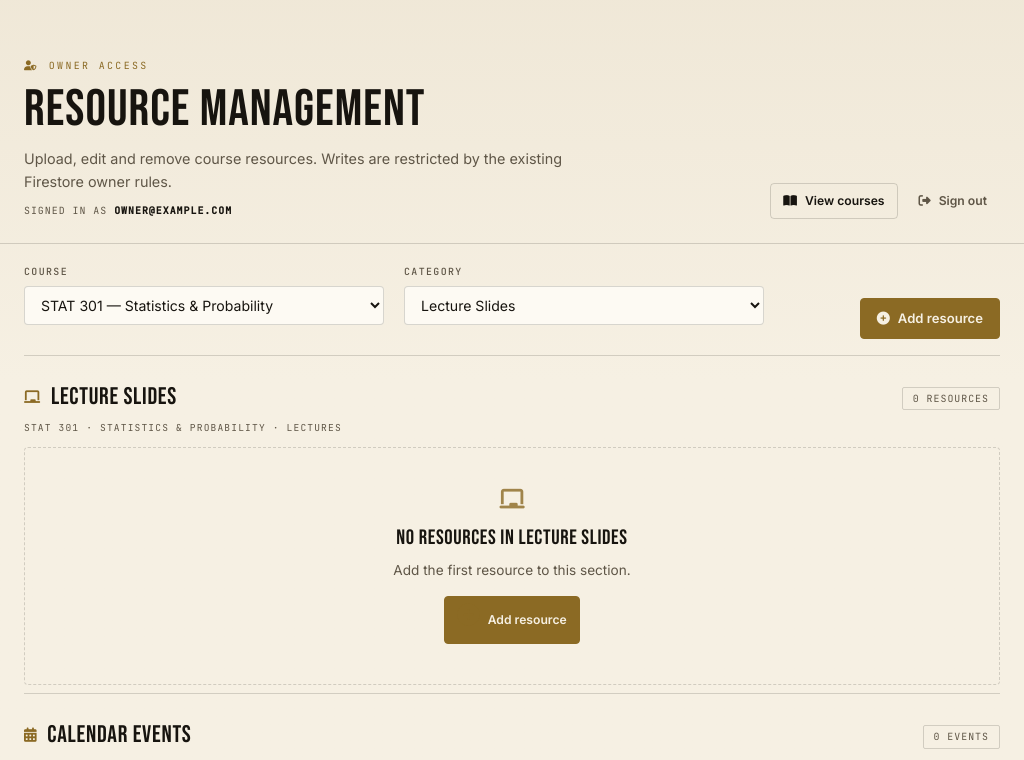
Test: AdminPage resource creation › surfaces repository failures from the create path
Expected: the heading "No resources in Lecture Slides" is shown, [396, 525, 628, 550]
Click the 1st button "Add resource" at (930,318), box [860, 298, 1000, 339]
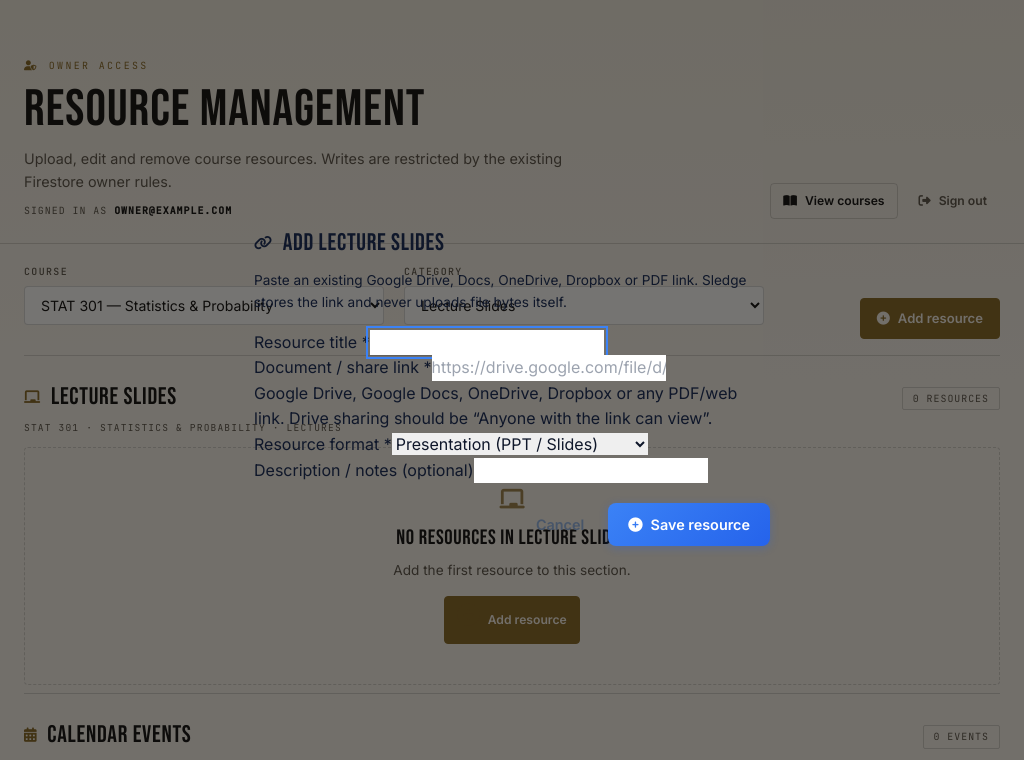
Type "Denied" into the field labelled "Resource title *" at (487,342), box [370, 330, 604, 355]
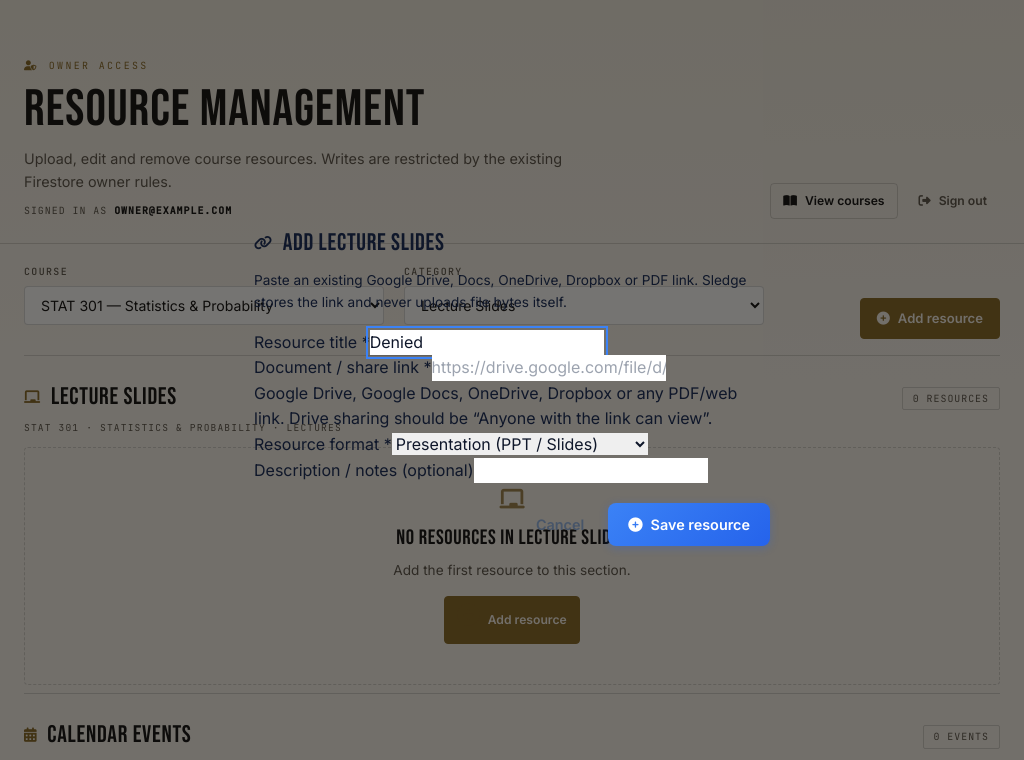
Type "https://example.com/denied.pdf" into the field labelled "Document / share link *" at (548,368), box [432, 355, 666, 381]
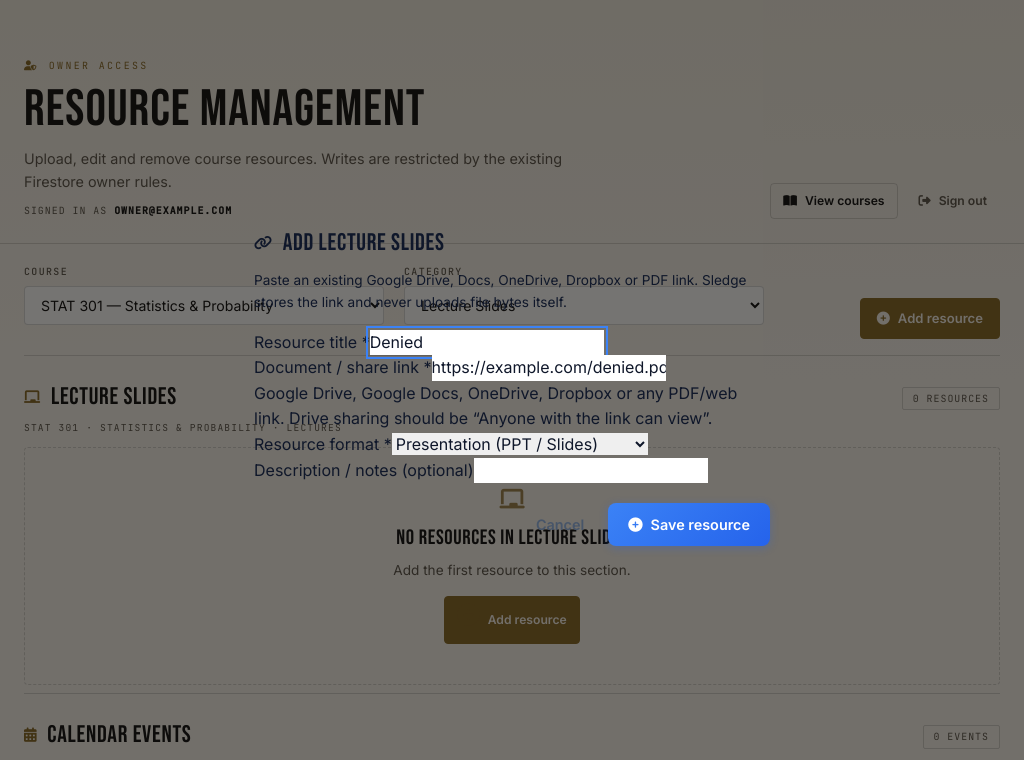
Click the button "Save resource" at (689,525), box [608, 503, 770, 546]
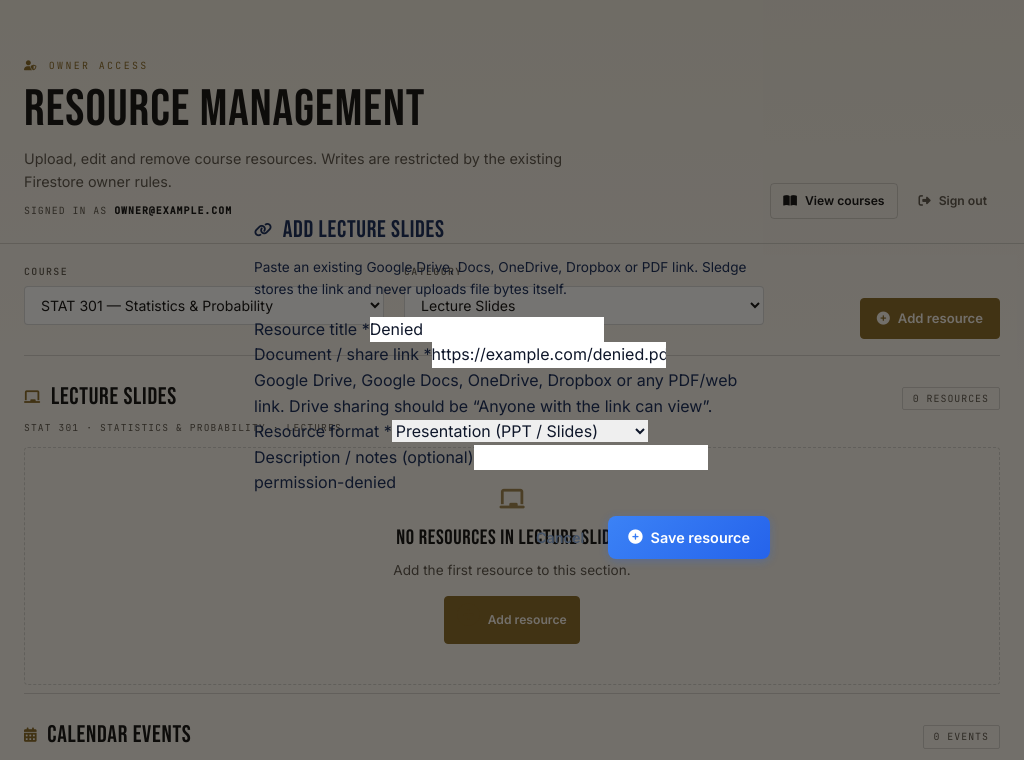
Expected: the message reads "permission-denied", [254, 472, 396, 492]
